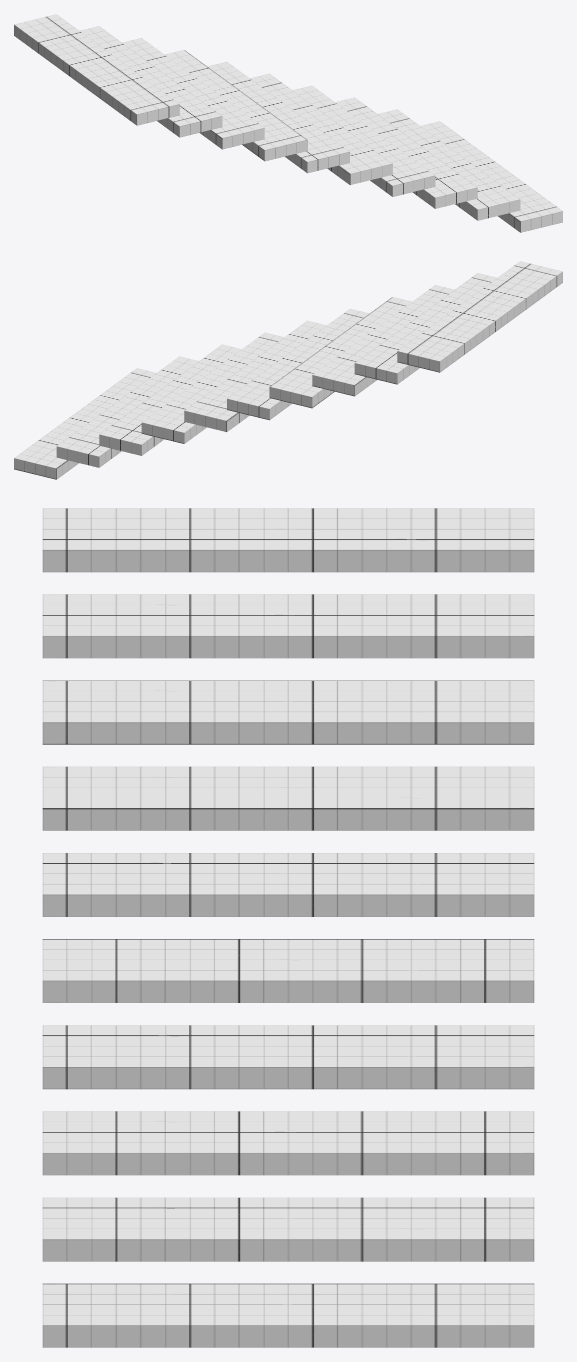
File: Tile_Stairs_4x2x2.fbx
The picture shows the model from 3 angles, top to bottom: view 1: azimuth 30°, elevation 25°; view 2: azimuth 150°, elevation 25°; view 3: azimuth 270°, elevation 25°; orthographic projection. The views are drawn at different scales.
Visible parts, largest first — view 1: Tile_Stairs_4x2x2; view 2: Tile_Stairs_4x2x2; view 3: Tile_Stairs_4x2x2.
Part boxes in pixels (x1,y1,x2,y2): Tile_Stairs_4x2x2: (14, 14, 562, 232); Tile_Stairs_4x2x2: (14, 261, 562, 479); Tile_Stairs_4x2x2: (42, 508, 534, 1347).
Size of the model in its own units: 400 by 190 by 200.
